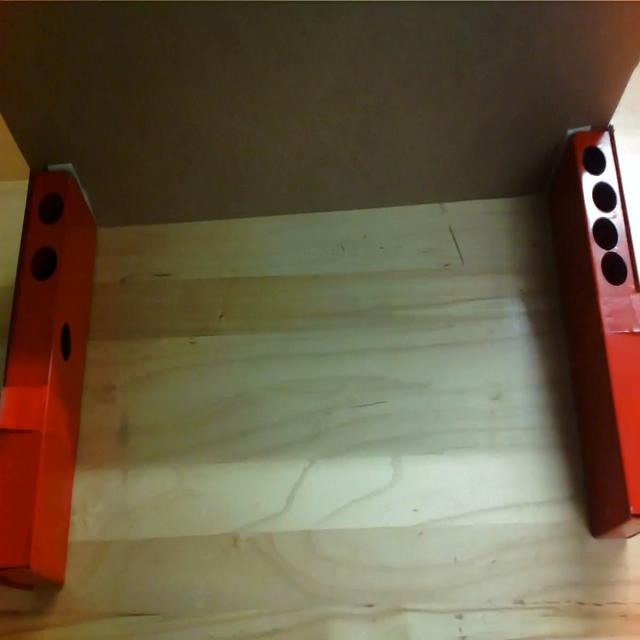Hole: (601, 252, 628, 286), (31, 246, 57, 281), (593, 218, 618, 250), (38, 194, 64, 224), (592, 182, 617, 212), (582, 146, 606, 176), (61, 322, 71, 361)
